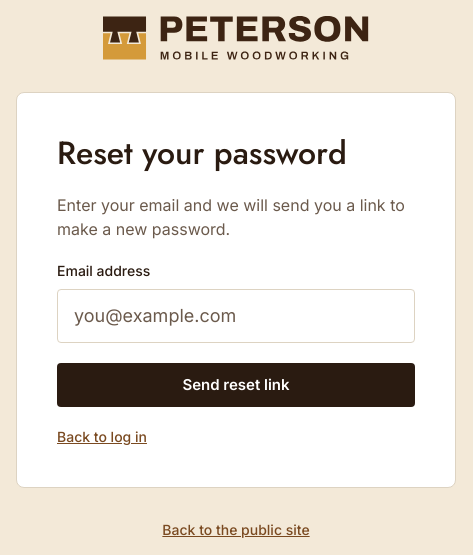
Scenario: ForgotPasswordPage › sends the link and shows the link sent state
Type "  girlie@example.com " into the field labelled "Email address". click: point(236, 316)
box: x1=57 y1=289 x2=415 y2=343
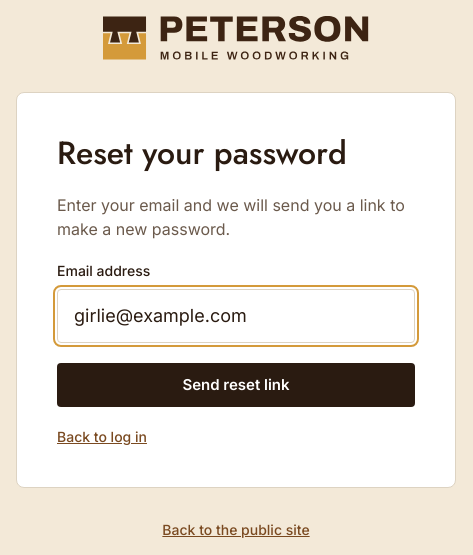
Click the button "Send reset link". click: point(236, 385)
box: x1=57 y1=363 x2=415 y2=407
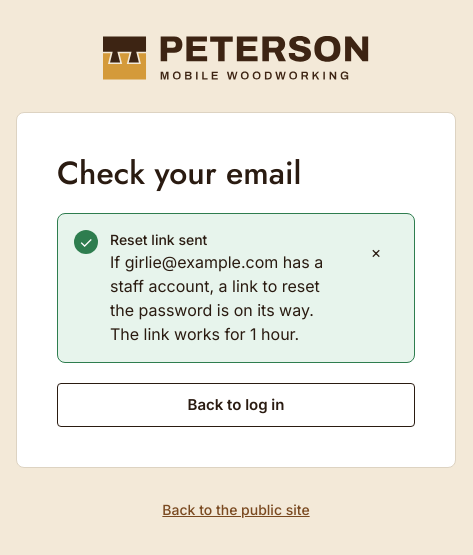
Check: the message shows "If girlie@example.com has a staff account, a link to reset the password is on its way. The link works for 1 hour.", box x1=110 y1=252 x2=323 y2=344
